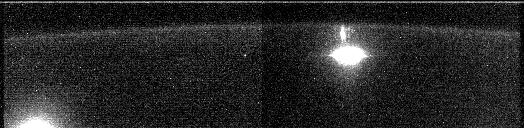positive: (336, 23, 355, 43)
